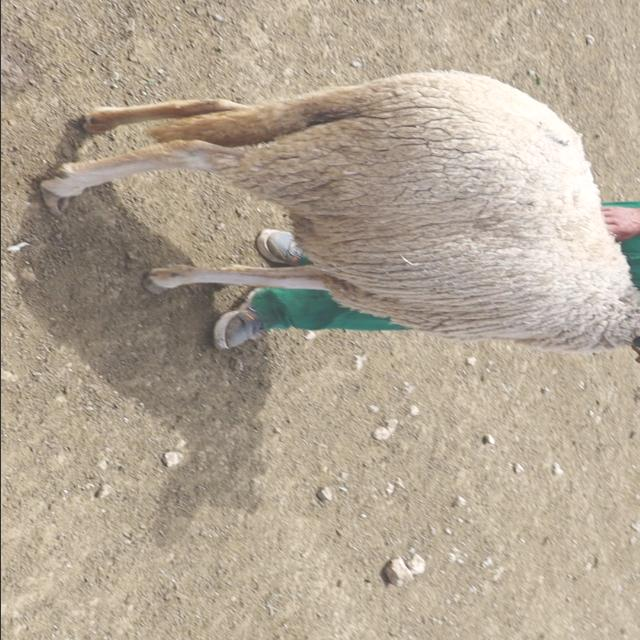Score_4: (40, 71, 640, 353)
